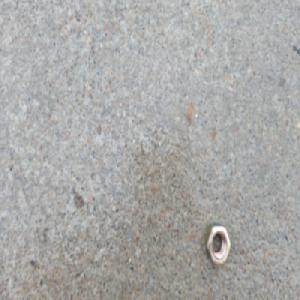Nut: (204, 221, 230, 266)
